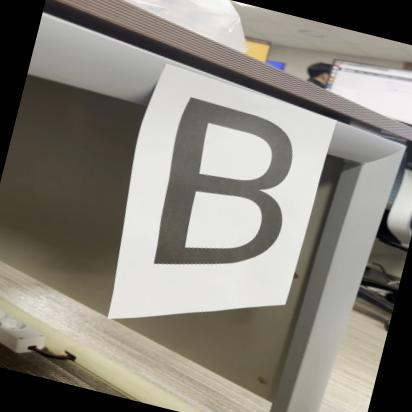seat: (113, 76, 328, 307)
